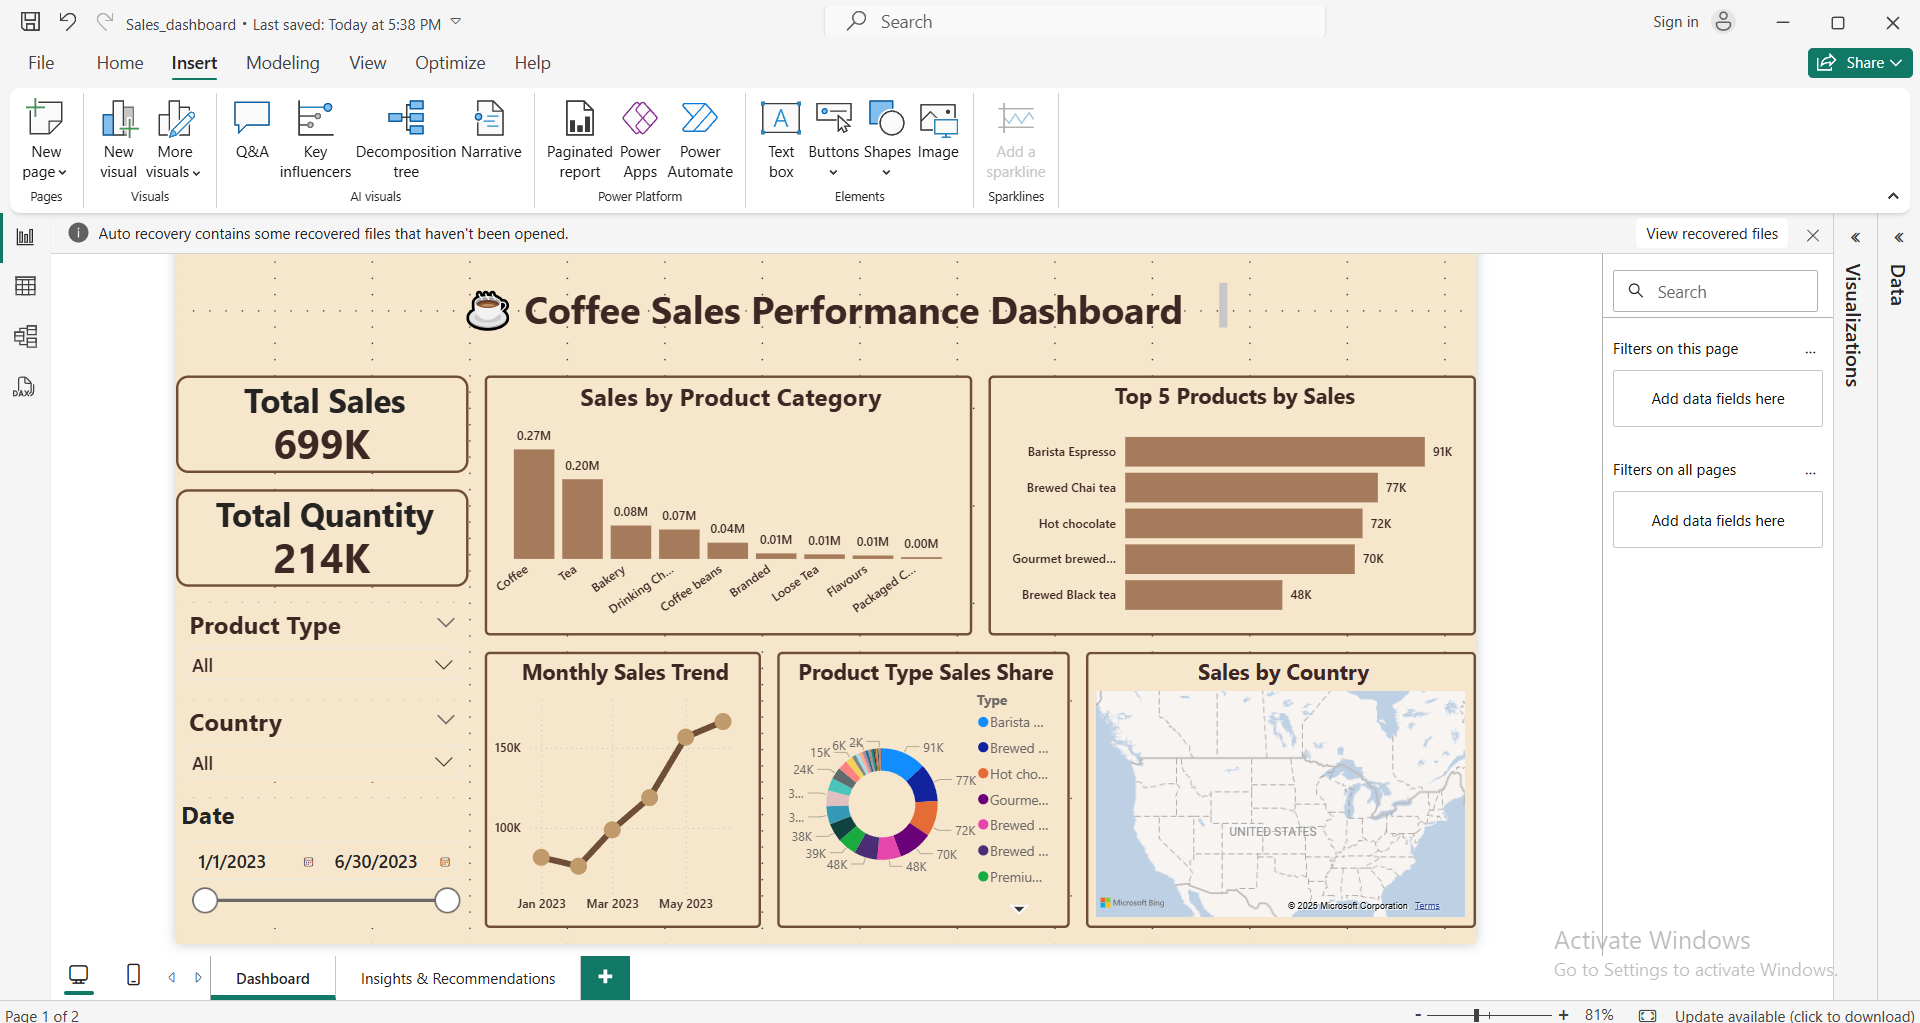

This screenshot's page, from the dashboard's own definition file:
{"tool":"powerbi","page":{"name":"Dashboard","canvas":[1280,720],"ordinal":0},"visuals":[{"type":"card","title":"Total Sales","fields":{"Values":["Coffee_Sales.total_sales"]},"box":[0,160,288,96],"z":0},{"type":"clusteredColumnChart","title":"Sales by Product Category","fields":{"Y":["Sum(Coffee_Sales.total sales)"],"Category":["Coffee_Sales.product_category"]},"box":[304,160,480,256],"z":1000},{"type":"filledMap","title":"Sales by Country","fields":{"Category":["Coffee_Sales.store_location"],"Series":["Coffee_Sales.total sales"]},"box":[896,432,384,272],"z":2000},{"type":"lineChart","title":"Monthly Sales Trend","fields":{"Y":["Sum(Coffee_Sales.total sales)"],"Category":["Coffee_Sales.transaction_date.Variation.Date Hierarchy.Year","Coffee_Sales.transaction_date.Variation.Date Hierarchy.Month"]},"box":[304,432,272,272],"z":3000},{"type":"slicer","fields":{"Values":["Coffee_Sales.store_location"]},"box":[0,480,288,80],"z":4000},{"type":"slicer","title":"Date","fields":{"Values":["Coffee_Sales.transaction_date"]},"box":[0,576,288,128],"z":5000},{"type":"slicer","fields":{"Values":["Coffee_Sales.product_type"]},"box":[0,384,288,96],"z":6000},{"type":"card","title":"Total Quantity","fields":{"Values":["Coffee_Sales.total_quantity"]},"box":[0,272,288,96],"z":7000},{"type":"textbox","box":[240,64,800,64],"z":8000},{"type":"donutChart","title":"Product Type Sales Share","fields":{"Category":["Coffee_Sales.product_type"],"Y":["Coffee_Sales.total_sales"]},"box":[592,432,288,272],"z":9000},{"type":"barChart","title":"Top 5 Products by Sales","fields":{"Category":["Coffee_Sales.product_type"],"Y":["Coffee_Sales.total_sales"]},"box":[800,160,480,256],"z":10000}]}

Visuals, with their boxes on the page's 1280x720 design canvas (x1, y1, x2, y2). These are canvas units, not pixel positions in the 1920x1023 screenshot, which may show the page scaled, cropped or inside an application window:
"Total Sales" card: <box>0,160,288,256</box>
"Sales by Product Category" clusteredColumnChart: <box>304,160,784,416</box>
"Sales by Country" filledMap: <box>896,432,1280,704</box>
"Monthly Sales Trend" lineChart: <box>304,432,576,704</box>
slicer - Coffee_Sales.store_location: <box>0,480,288,560</box>
"Date" slicer: <box>0,576,288,704</box>
slicer - Coffee_Sales.product_type: <box>0,384,288,480</box>
"Total Quantity" card: <box>0,272,288,368</box>
textbox: <box>240,64,1040,128</box>
"Product Type Sales Share" donutChart: <box>592,432,880,704</box>
"Top 5 Products by Sales" barChart: <box>800,160,1280,416</box>
